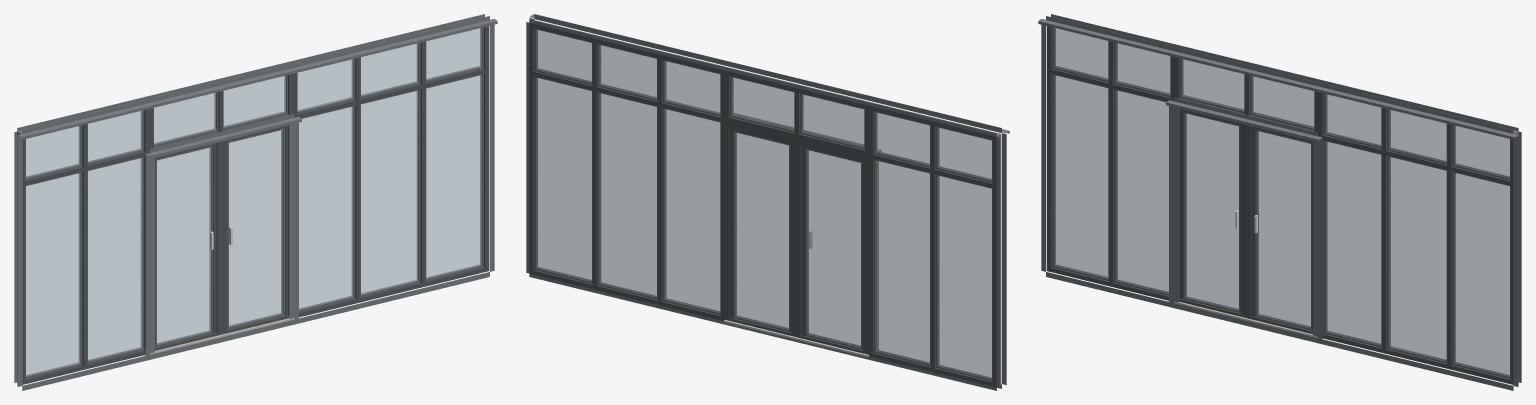
Rendered from Abertura_A3_lado_A_vidriera_con_puerta_5.97m.dae.
The picture shows the model from 3 angles, left to right: view 1: azimuth 30°, elevation 25°; view 2: azimuth 150°, elevation 25°; view 3: azimuth 330°, elevation 25°; orthographic projection.
Parts seen in each view (by area): view 1: Vidrio (×2), Contramarco (×2), Perfil aluminio (×2), Junquillo (×2), Umbral hormigon; view 2: Vidrio (×2), Perfil aluminio (×2), Junquillo (×2), Contramarco (×2), Umbral hormigon; view 3: Vidrio (×2), Contramarco (×2), Perfil aluminio (×2), Junquillo (×2), Umbral hormigon.
Boxes of the visible parts, x1=… form: Vidrio (×2): x1=26, y1=28, x2=481, y2=376; Contramarco (×2): x1=14, y1=14, x2=497, y2=390; Perfil aluminio (×2): x1=22, y1=26, x2=488, y2=384; Junquillo (×2): x1=25, y1=27, x2=483, y2=378; Umbral hormigon: x1=150, y1=318, x2=294, y2=354; Vidrio (×2): x1=536, y1=29, x2=991, y2=378; Perfil aluminio (×2): x1=529, y1=23, x2=996, y2=387; Junquillo (×2): x1=534, y1=28, x2=992, y2=381; Contramarco (×2): x1=526, y1=14, x2=1009, y2=390; Umbral hormigon: x1=724, y1=320, x2=868, y2=357; Vidrio (×2): x1=1054, y1=28, x2=1509, y2=376; Contramarco (×2): x1=1038, y1=14, x2=1521, y2=390; Perfil aluminio (×2): x1=1047, y1=26, x2=1513, y2=384; Junquillo (×2): x1=1052, y1=27, x2=1510, y2=378; Umbral hormigon: x1=1173, y1=301, x2=1317, y2=338.
Size of the model in its own units: 5.97 by 0.205 by 3.12.
